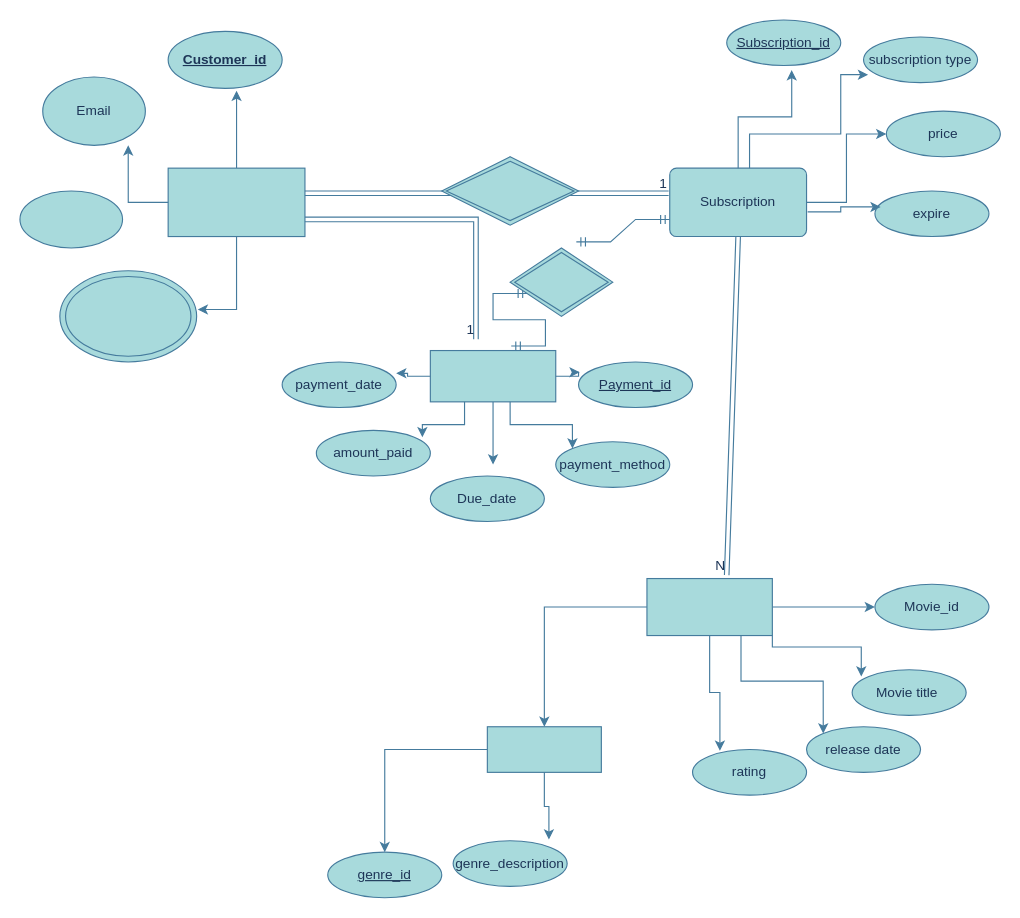
Image size: 1020x918. Some labels were removed from this diagram. The shapes that lost their labels are listed below. From the top down, each one's centre as x and y in pixels, then its label:
the point at 236,202: Customer Account
the point at 510,190: Has
the point at 71,219: Phone
the point at 561,281: Givesz
the point at 127,315: Profile
the point at 492,375: Payment
the point at 709,606: TV, Shows, Movies
the point at 543,749: Genre
